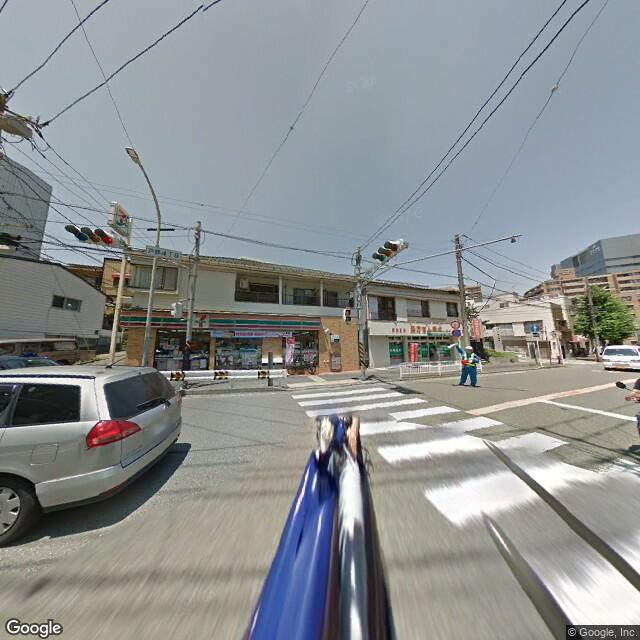7-eleven: (116, 301, 322, 334)
